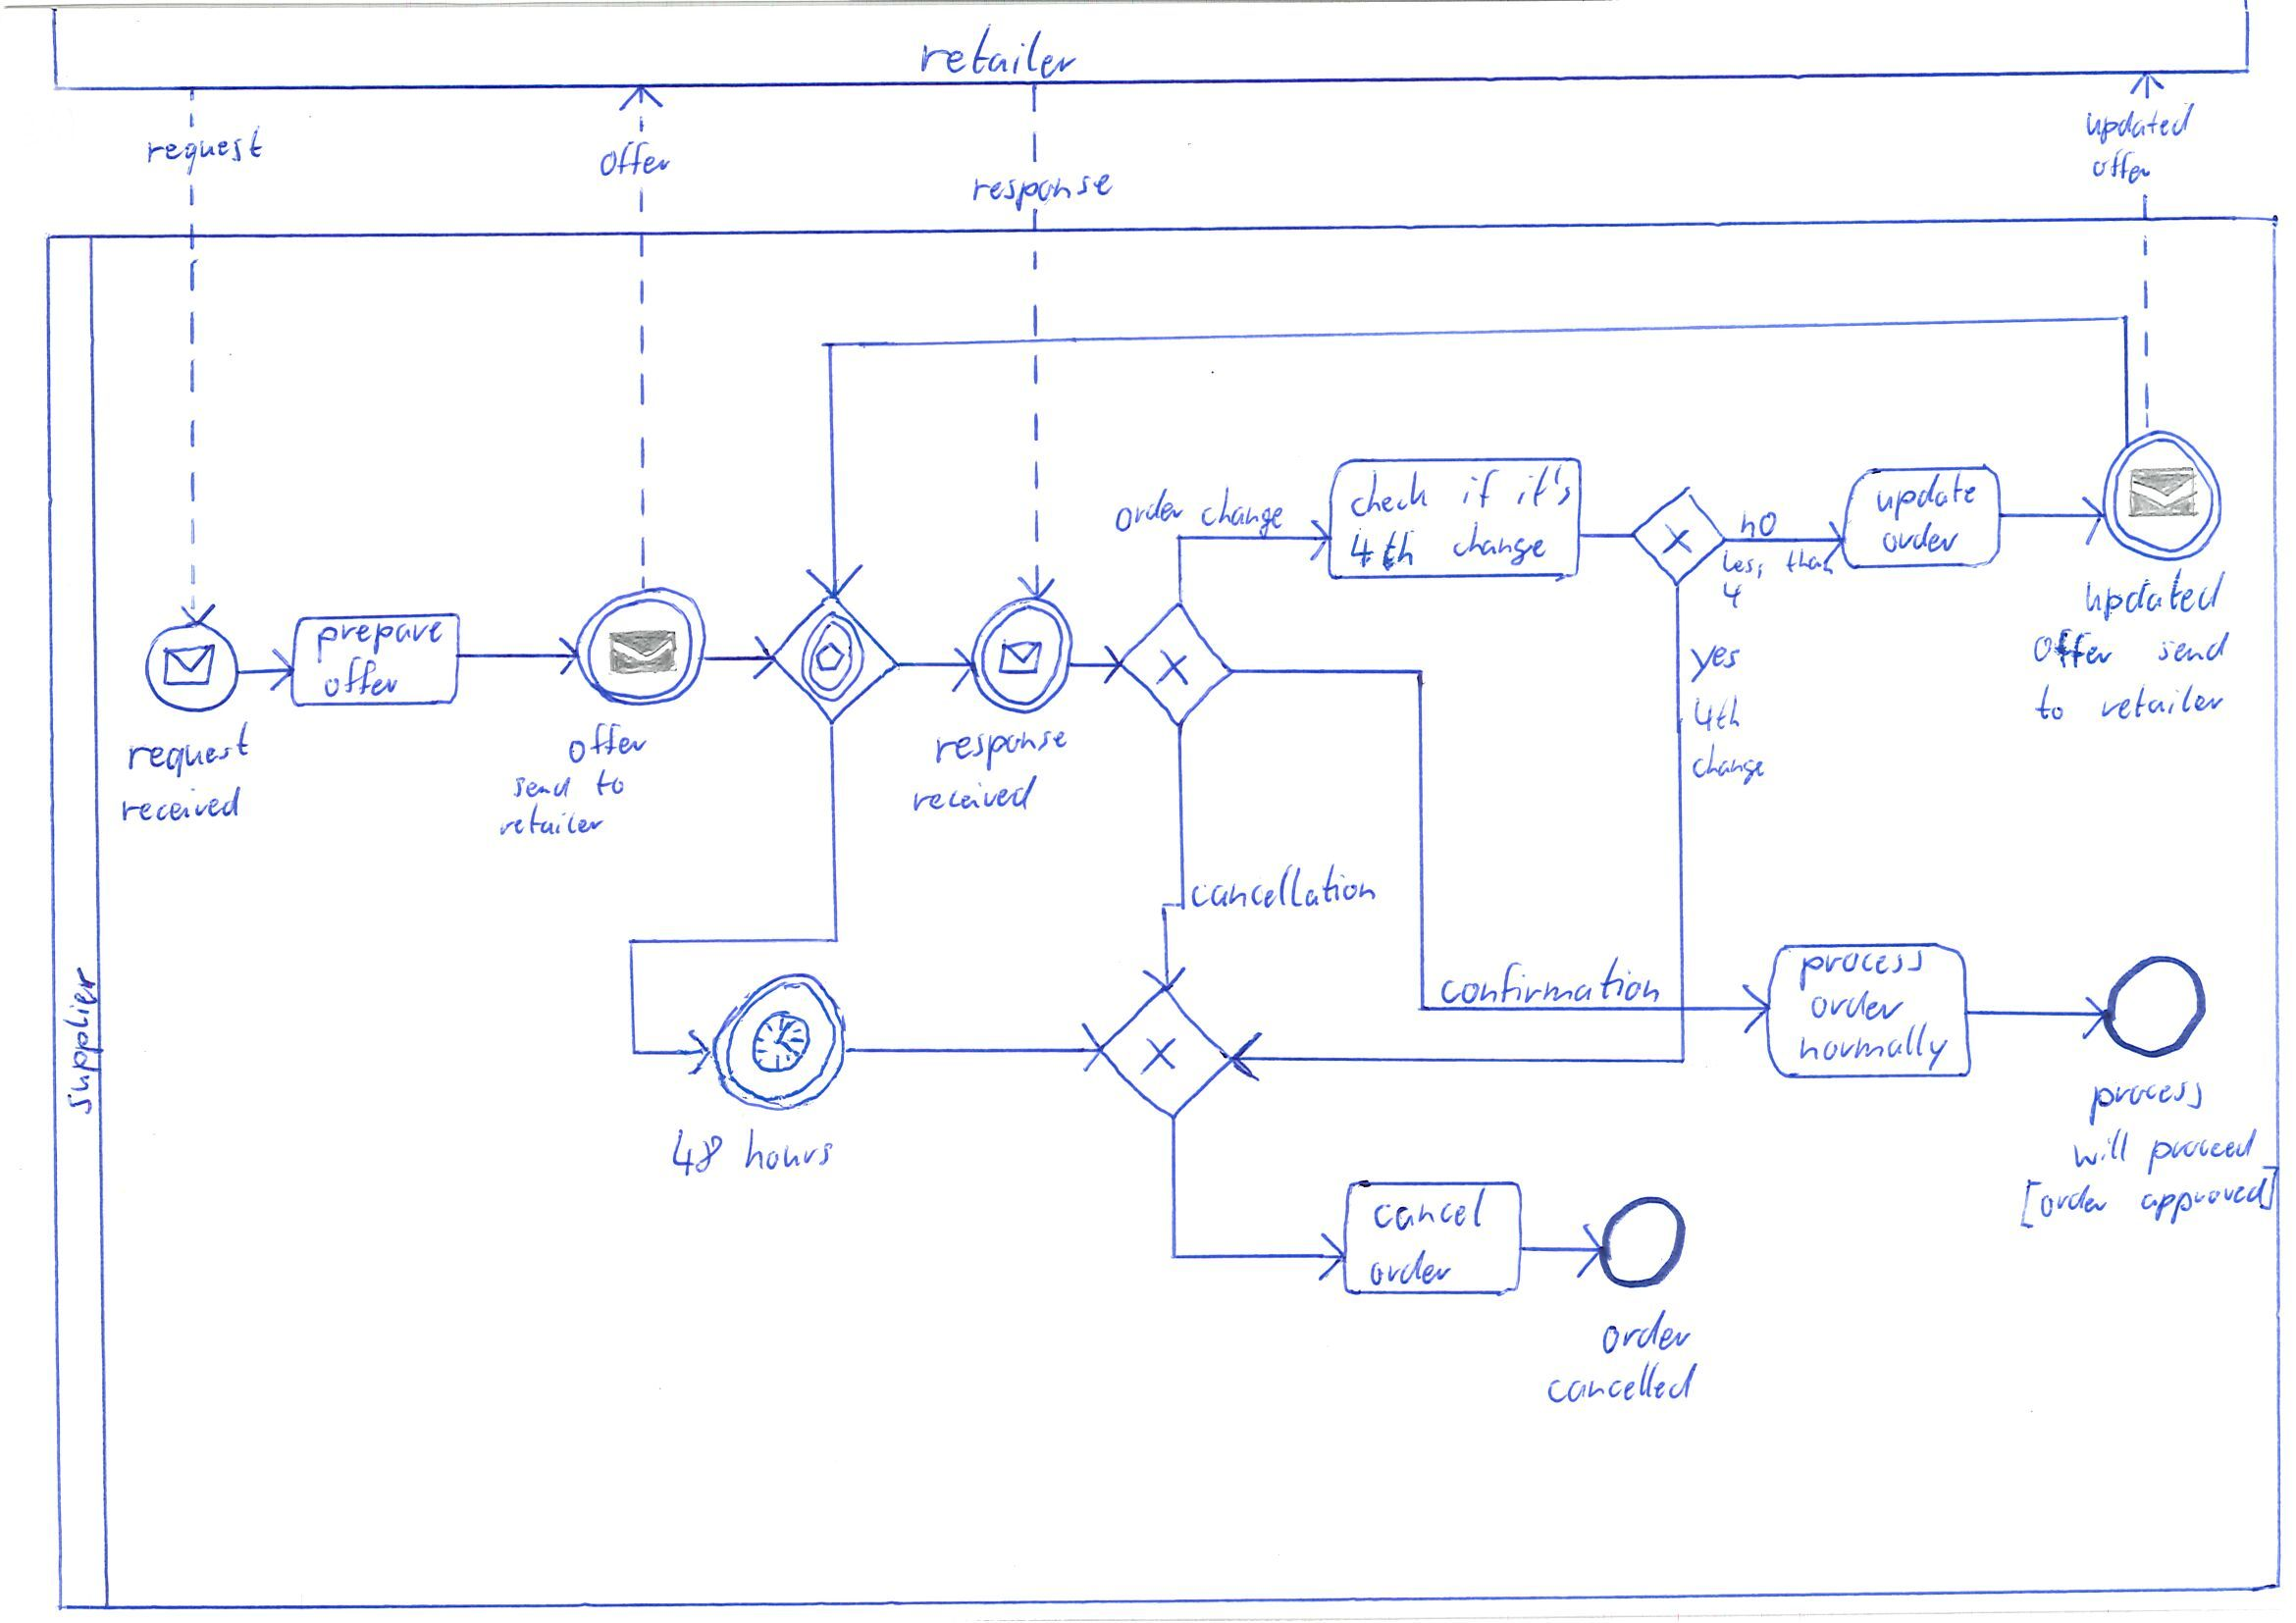4: (1722, 581, 1739, 611)
48: (666, 1115, 733, 1184)
4th: (1344, 525, 1442, 573), (1690, 689, 1748, 738)
Offer: (2022, 620, 2115, 671)
[order: (2013, 1177, 2126, 1235)
approved]: (2143, 1170, 2282, 1223)
cancel: (1365, 1187, 1488, 1240)
cancellation: (1188, 861, 1375, 929)
cancelled: (1549, 1372, 1690, 1407)
change: (1453, 522, 1548, 573), (1686, 747, 1785, 785)
check: (1188, 488, 1289, 541), (1346, 467, 1435, 520)
confirmation: (1442, 964, 1657, 1006)
hours: (736, 1131, 850, 1177)
if: (1446, 462, 1505, 513)
it's: (1511, 464, 1574, 515)
less: (1722, 550, 1771, 585)
no: (1732, 508, 1787, 546)
normally: (1799, 1024, 1939, 1068)
offer: (557, 717, 652, 762), (316, 659, 408, 697), (594, 139, 673, 183), (2083, 148, 2157, 191)
order: (1593, 1307, 1697, 1365), (1801, 977, 1908, 1029), (1361, 1251, 1455, 1291), (1101, 488, 1180, 532), (1880, 520, 1957, 557)
prepare: (314, 618, 450, 655)
proceed: (2131, 1124, 2261, 1168)
process: (2080, 1070, 2222, 1119), (1799, 949, 1920, 984)
received: (116, 794, 225, 831), (926, 780, 1017, 817)
request: (123, 734, 248, 776), (141, 128, 267, 169)
response: (975, 174, 1110, 207), (961, 729, 1036, 766)
retailer: (913, 30, 1077, 79), (2099, 678, 2213, 720), (490, 806, 615, 843)
send: (2143, 620, 2235, 667), (508, 771, 564, 804)
supplier: (53, 968, 104, 1114)
that: (1776, 546, 1845, 583)
to: (2034, 690, 2071, 727), (585, 766, 625, 797)
update: (1881, 474, 1975, 522)
updated: (2082, 576, 2219, 615), (2066, 111, 2194, 149)
will: (2064, 1131, 2138, 1173)
yes: (1674, 641, 1757, 682)
